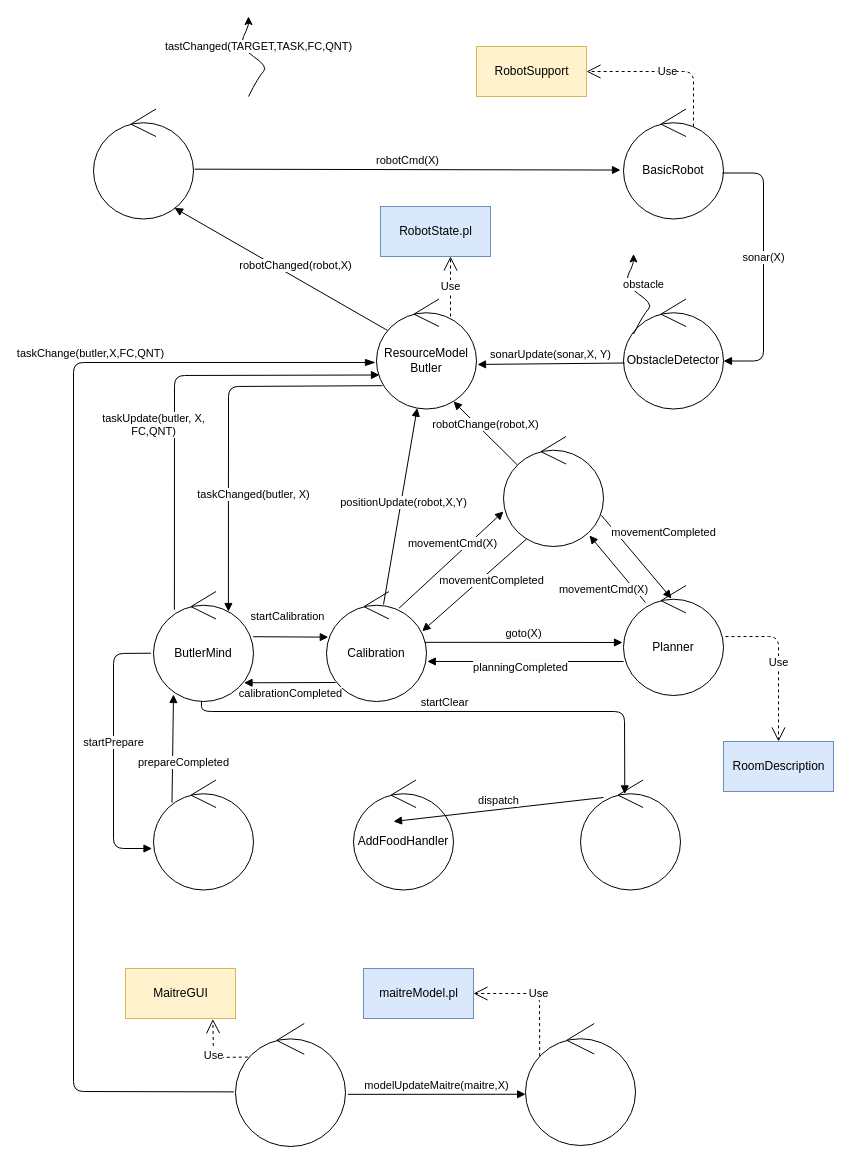
The diagram is 852 pixels wide and 1164 high, and some of its shapes have lost their labels. Each missing label, with the centre of its shape:
ClearHandler: the point at 630,834
Maitre: the point at 290,1084
MaitreModel: the point at 580,1084
MovementHandler: the point at 553,491
PrepareHandler: the point at 203,834
Robotmind: the point at 143,163
